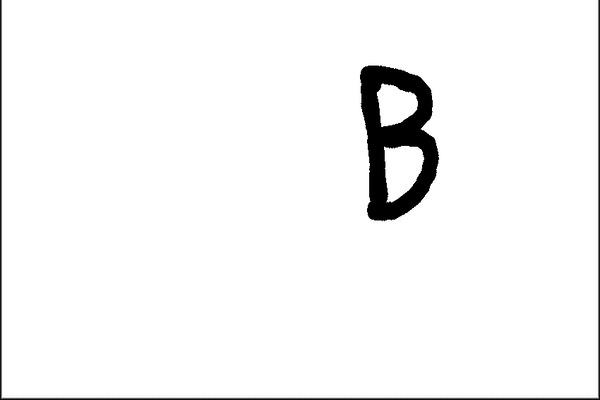B: (356, 55, 440, 222)
